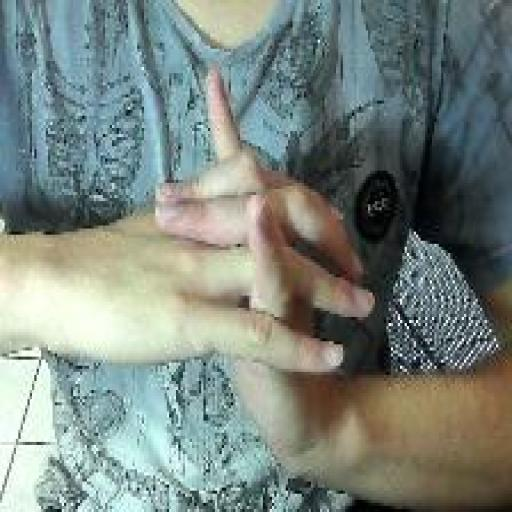Ushi -ox-: (152, 66, 376, 492)
